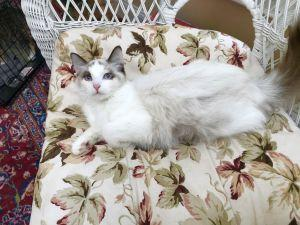ragdoll: (68, 44, 133, 103)
